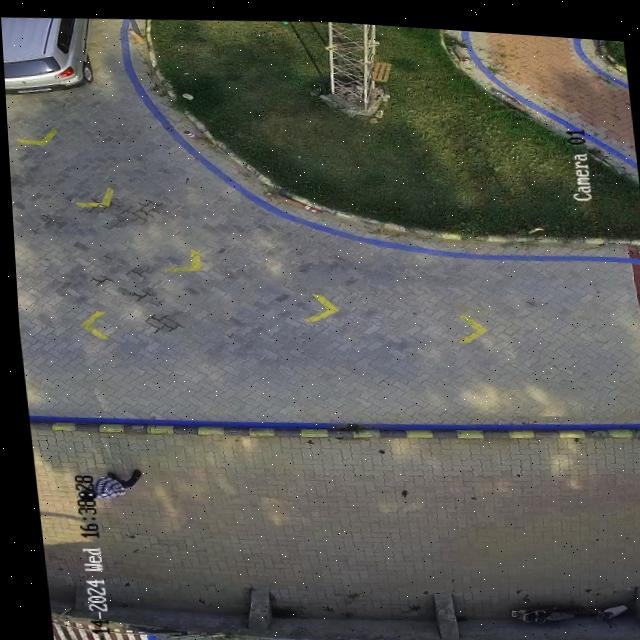car: (1, 16, 92, 95)
